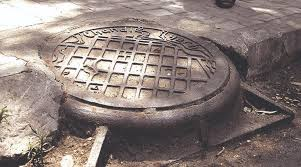manhole: (28, 10, 255, 143)
